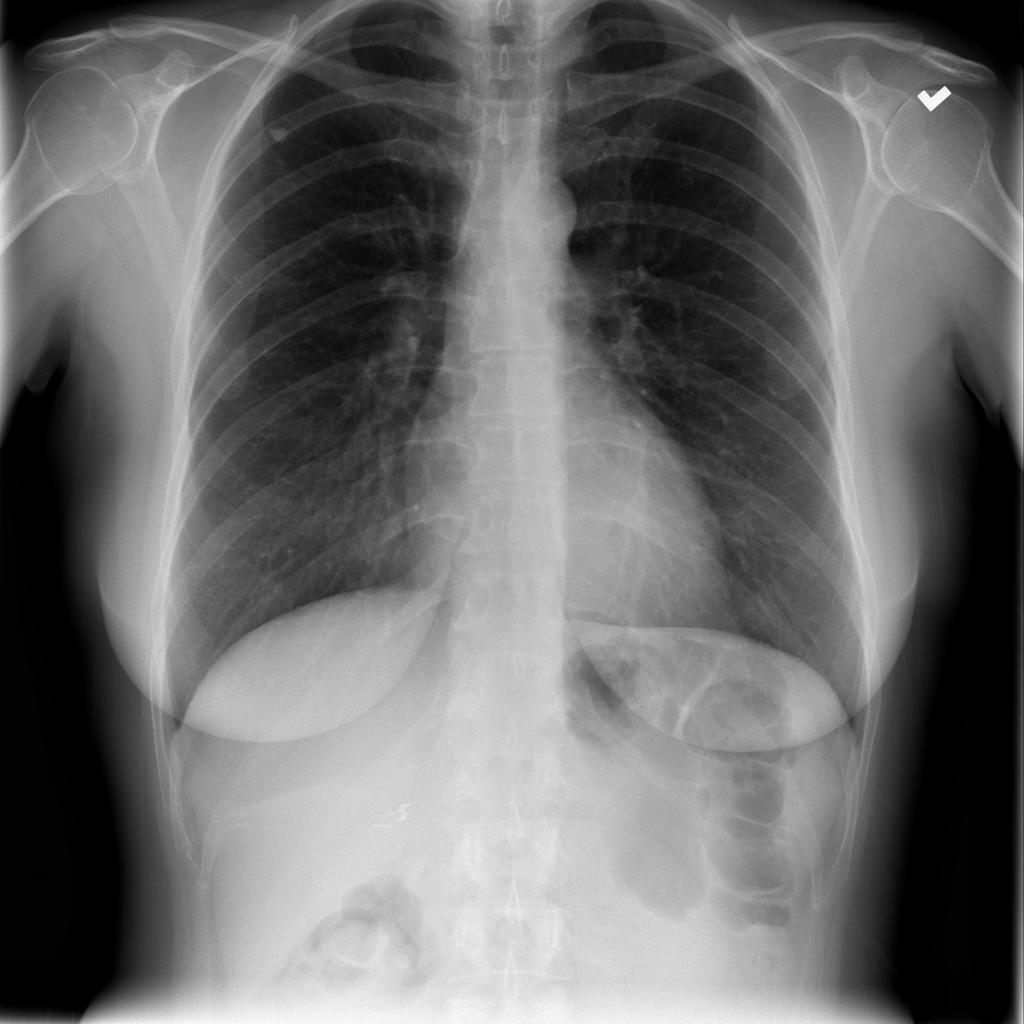nodule: (252, 111, 307, 157)
